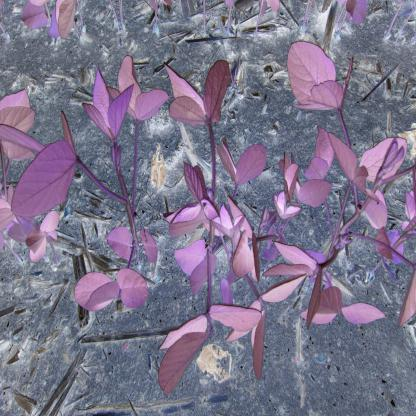soybean leaf: (9, 139, 78, 219), (285, 39, 336, 110), (158, 329, 207, 396), (203, 58, 231, 122), (106, 82, 135, 140), (235, 142, 267, 190), (115, 268, 148, 313), (168, 95, 207, 127), (136, 88, 168, 127), (184, 163, 204, 205)
